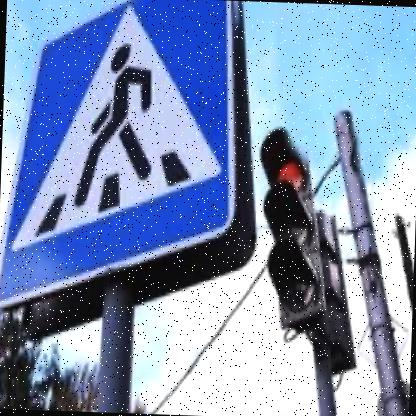crosswalk: (0, 0, 242, 321)
trafficlight: (255, 126, 323, 331)
